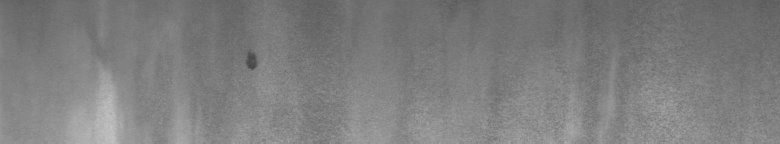fi: (240, 48, 264, 76)
